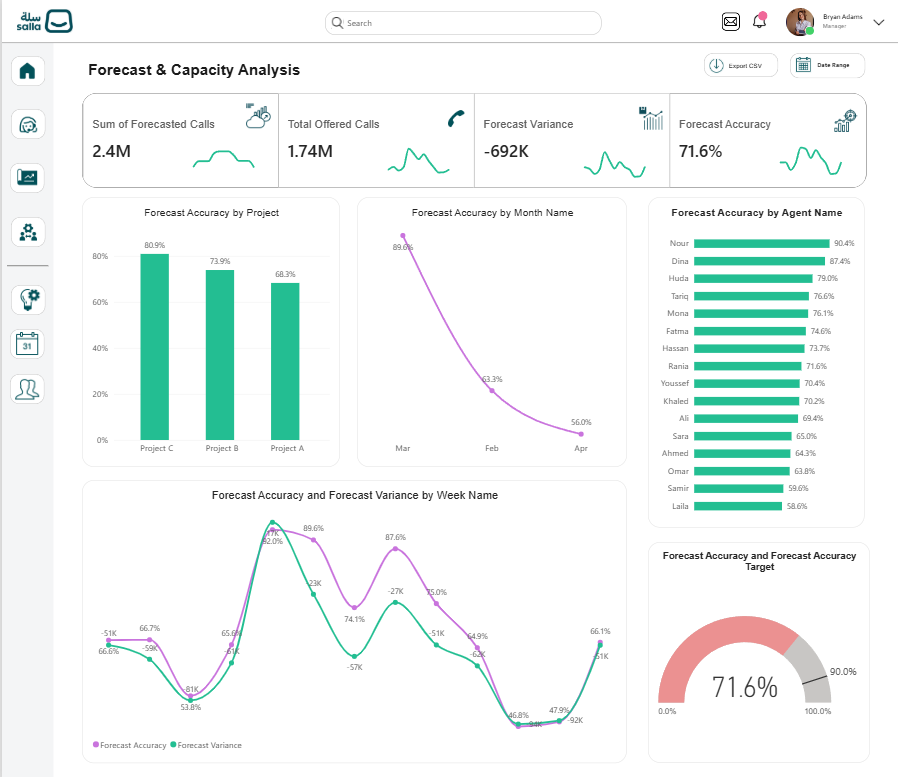

The dashboard page shown, as its layout file describes it:
{"tool":"powerbi","page":{"name":"Forecast & Capacity Analysis","canvas":[1500,1300],"ordinal":4},"visuals":[{"type":"shape","box":[0,71.4,85.7,1228.6],"z":0},{"type":"shape","box":[0,0,1500,71.4],"z":1000},{"type":"cardVisual","fields":{"Data":["Sum(Sallah Project.Forecasted Calls)","Sallah Project.Total Offered Calls","Sallah Project.Forecast Variance","Sallah Project.Forecast Accuracy %"]},"box":[133.1,155.5,1308.3,158.3],"z":2000},{"type":"clusteredColumnChart","fields":{"Category":["Sallah Project.Project"],"Y":["Sallah Project.Forecast Accuracy %"]},"box":[134,328,430,450],"z":3000},{"type":"lineChart","fields":{"Category":["Sallah Project.Month Name"],"Y":["Sallah Project.Forecast Accuracy %"]},"box":[592,328,450,450],"z":4000},{"type":"image","box":[25.7,11.4,92.9,47.1],"z":5000},{"type":"image","box":[1306.7,12.5,47,46.8],"z":6000},{"type":"actionButton","box":[1357,15.5,90.5,20.5],"z":7000},{"type":"actionButton","box":[1353.5,29.5,68.5,25.5],"z":8000},{"type":"image","box":[1448,25,26,22],"z":9000},{"type":"shape","box":[1337.7,43.1,16.2,15.9],"z":10000},{"type":"image","box":[1248.8,18.8,27.5,35],"z":11000},{"type":"image","box":[1196.2,20,36.4,32.1],"z":12000},{"type":"shape","box":[1260.8,18.8,16,16],"z":13000},{"type":"actionButton","box":[538.9,18.9,461.2,40],"z":14000},{"type":"actionButton","box":[14.2,182.3,57.5,50],"z":15000},{"type":"image","box":[22.5,190.8,41.7,33.3],"z":16000},{"type":"actionButton","box":[13.6,271.8,57.5,50],"z":17000},{"type":"image","box":[21.2,280,41.7,33.3],"z":18000},{"type":"actionButton","box":[14.4,362.2,57.5,50],"z":19000},{"type":"image","box":[22.5,370,41.7,33.3],"z":20000},{"type":"actionButton","box":[15,475,57.5,50],"z":21000},{"type":"actionButton","box":[13.8,548.8,57.5,50],"z":22000},{"type":"image","title":"month filter","box":[20,554,44.7,40],"z":23000},{"type":"actionButton","box":[14,622.7,57.5,50],"z":24000},{"type":"image","title":"filter agent2","box":[20.7,628,44.7,40],"z":25000},{"type":"image","title":"project filtr","box":[22.7,480,44.7,40],"z":26000},{"type":"shape","box":[8.3,437.2,68.9,12.2],"z":27000},{"type":"actionButton","box":[14.5,92.7,57.1,50],"z":28000},{"type":"image","box":[22.3,100.9,41.7,33.3],"z":29000},{"type":"image","box":[738.1,177.1,36.4,40.7],"z":30000},{"type":"image","box":[1059.8,177.1,42.5,40.8],"z":31000},{"type":"image","box":[407.1,171.8,41.2,42.9],"z":32000},{"type":"image","box":[1384.8,180.6,42.5,40.8],"z":33000},{"type":"barChart","fields":{"Category":["Sallah Project.Agent Name"],"Y":["Sallah Project.Forecast Accuracy"]},"box":[1077.1,328.6,361.4,551.4],"z":34000},{"type":"lineChart","title":"Service Level Trend","fields":{"Category":["Sallah Project.Week Number"],"Y":["Sum(Sallah Project.Forecasted Calls)"]},"box":[284.8,218.8,177.3,95.5],"z":36000},{"type":"lineChart","title":"Service Level Trend","fields":{"Category":["Sallah Project.Week Number"],"Y":["Sallah Project.Total Offered Calls"]},"box":[610.8,218.8,177.3,95.5],"z":37000},{"type":"lineChart","title":"Service Level Trend","fields":{"Category":["Sallah Project.Week Number"],"Y":["Sallah Project.Forecast Variance"]},"box":[935.9,218.8,177.3,95.5],"z":38000},{"type":"lineChart","title":"Service Level Trend","fields":{"Category":["Sallah Project.Week Number"],"Y":["Sallah Project.Forecast Accuracy"]},"box":[1263.7,215.5,177.8,98.9],"z":39000},{"type":"shape","box":[0,65.3,1500,12],"z":40000},{"type":"lineChart","fields":{"Category":["Sallah Project.Week Name"],"Y":["Sallah Project.Forecast Accuracy"],"Y2":["Sallah Project.Forecast Variance"]},"box":[134,800,908,472],"z":41000},{"type":"actionButton","box":[131.4,88.6,391.4,57.1],"z":42000},{"type":"actionButton","title":"date hover","box":[1313.3,87.8,125.6,42.2],"z":43000},{"type":"image","title":"date icon","box":[1321.3,95.5,28.2,26.5],"z":44000},{"type":"actionButton","title":"date word","box":[1346.2,95,83,26],"z":45000},{"type":"actionButton","box":[1169.7,89.1,123.8,40],"z":46000},{"type":"image","box":[1179,95,25,28],"z":47000},{"type":"actionButton","box":[1197.9,96.3,81.4,25.7],"z":48000},{"type":"gauge","fields":{"TargetValue":["Sallah Project.Forecast Accuracy Target"],"Y":["Sallah Project.Forecast Accuracy %"]},"box":[1076.7,903.3,370,368.3],"z":57001}]}

Visuals, with their boxes on the page's 1500x1300 design canvas (x1, y1, x2, y2). These are canvas units, not pixel positions in the 898x777 screenshot, which may show the page scaled, cropped or inside an application window:
shape: select_region(0, 71, 86, 1300)
shape: select_region(0, 0, 1500, 71)
cardVisual - Sum(Sallah Project.Forecasted Calls) x Sallah Project.Total Offered Calls: select_region(133, 156, 1441, 314)
clusteredColumnChart - Sallah Project.Project x Sallah Project.Forecast Accuracy %: select_region(134, 328, 564, 778)
lineChart - Sallah Project.Month Name x Sallah Project.Forecast Accuracy %: select_region(592, 328, 1042, 778)
image: select_region(26, 11, 119, 58)
image: select_region(1307, 12, 1354, 59)
actionButton: select_region(1357, 16, 1448, 36)
actionButton: select_region(1354, 30, 1422, 55)
image: select_region(1448, 25, 1474, 47)
shape: select_region(1338, 43, 1354, 59)
image: select_region(1249, 19, 1276, 54)
image: select_region(1196, 20, 1233, 52)
shape: select_region(1261, 19, 1277, 35)
actionButton: select_region(539, 19, 1000, 59)
actionButton: select_region(14, 182, 72, 232)
image: select_region(22, 191, 64, 224)
actionButton: select_region(14, 272, 71, 322)
image: select_region(21, 280, 63, 313)
actionButton: select_region(14, 362, 72, 412)
image: select_region(22, 370, 64, 403)
actionButton: select_region(15, 475, 72, 525)
actionButton: select_region(14, 549, 71, 599)
"month filter" image: select_region(20, 554, 65, 594)
actionButton: select_region(14, 623, 72, 673)
"filter agent2" image: select_region(21, 628, 65, 668)
"project filtr" image: select_region(23, 480, 67, 520)
shape: select_region(8, 437, 77, 449)
actionButton: select_region(14, 93, 72, 143)
image: select_region(22, 101, 64, 134)
image: select_region(738, 177, 774, 218)
image: select_region(1060, 177, 1102, 218)
image: select_region(407, 172, 448, 215)
image: select_region(1385, 181, 1427, 221)
barChart - Sallah Project.Agent Name x Sallah Project.Forecast Accuracy: select_region(1077, 329, 1438, 880)
"Service Level Trend" lineChart: select_region(285, 219, 462, 314)
"Service Level Trend" lineChart: select_region(611, 219, 788, 314)
"Service Level Trend" lineChart: select_region(936, 219, 1113, 314)
"Service Level Trend" lineChart: select_region(1264, 216, 1442, 314)
shape: select_region(0, 65, 1500, 77)
lineChart - Sallah Project.Week Name x Sallah Project.Forecast Accuracy: select_region(134, 800, 1042, 1272)
actionButton: select_region(131, 89, 523, 146)
"date hover" actionButton: select_region(1313, 88, 1439, 130)
"date icon" image: select_region(1321, 96, 1350, 122)
"date word" actionButton: select_region(1346, 95, 1429, 121)
actionButton: select_region(1170, 89, 1294, 129)
image: select_region(1179, 95, 1204, 123)
actionButton: select_region(1198, 96, 1279, 122)
gauge - Sallah Project.Forecast Accuracy Target x Sallah Project.Forecast Accuracy %: select_region(1077, 903, 1447, 1272)
